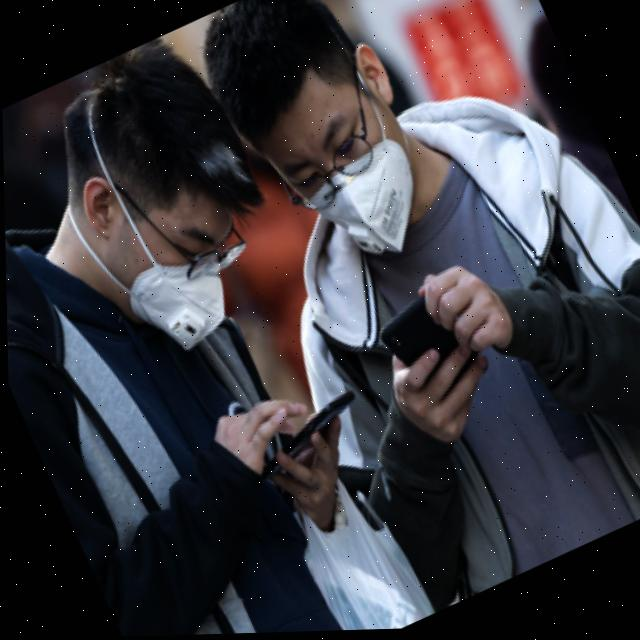Mask: (248, 29, 458, 287), (64, 125, 274, 372)
